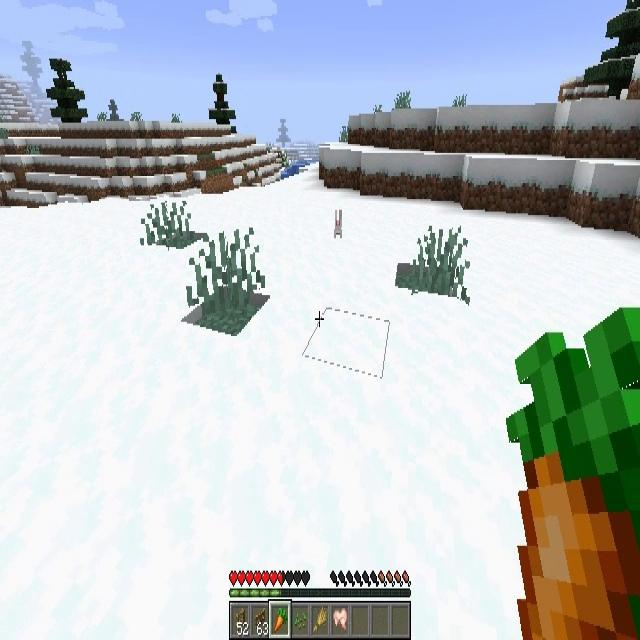rabbit: (333, 208, 342, 240)
